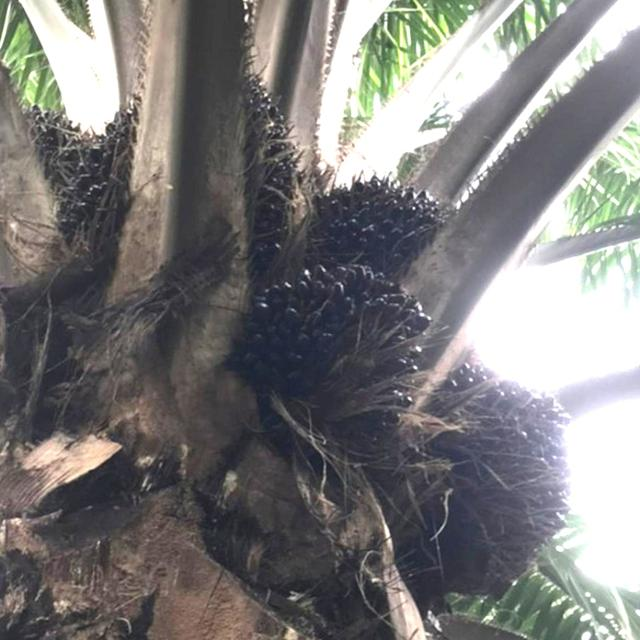almost: (112, 58, 300, 253), (427, 361, 580, 598), (225, 253, 420, 432), (303, 173, 474, 266), (12, 90, 109, 236)
